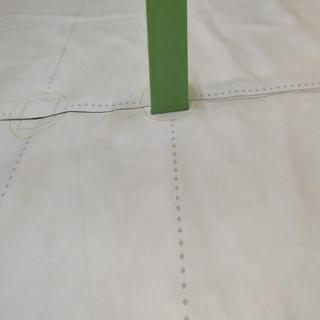greenbox: (144, 1, 192, 113)
